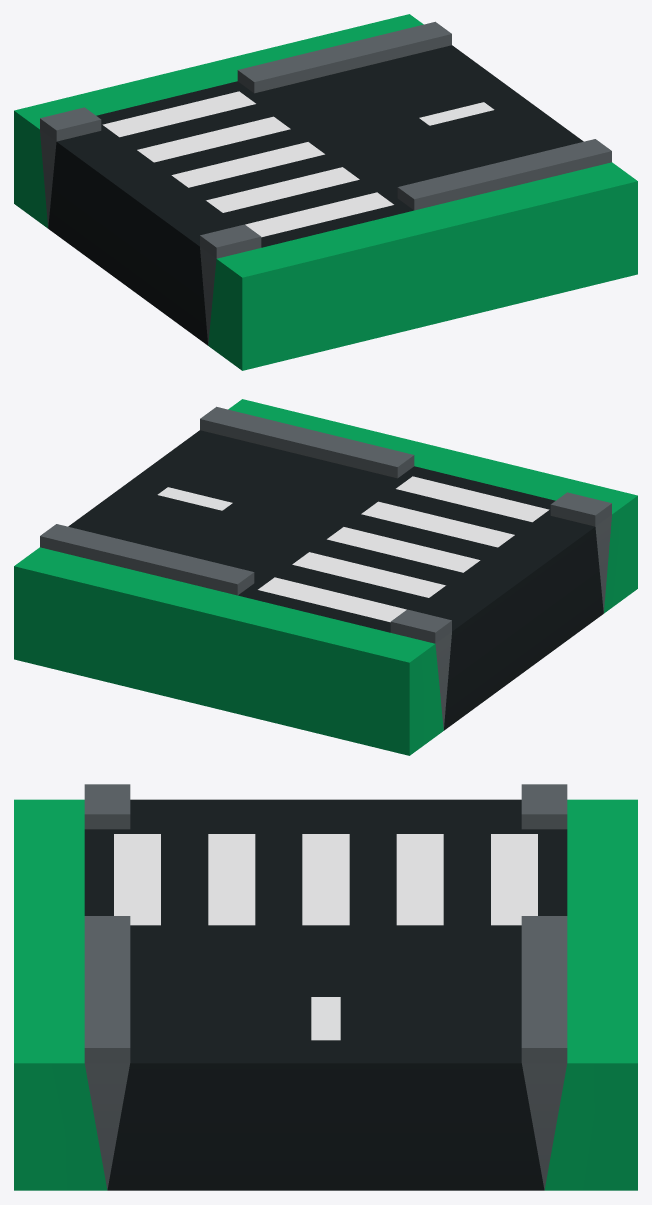
File: PASO DE PEATONES.fbx
3 views of the same model, one above another, from view 1: azimuth 30°, elevation 25°; view 2: azimuth 150°, elevation 25°; view 3: azimuth 270°, elevation 25° (orthographic). The views are drawn at different scales.
Parts seen in each view (by area): view 1: paved_road_straight__29_.005; view 2: paved_road_straight__29_.005; view 3: paved_road_straight__29_.005.
Boxes of the visible parts, bbox=[...] form: paved_road_straight__29_.005: bbox=[14, 14, 637, 370]; paved_road_straight__29_.005: bbox=[14, 399, 637, 755]; paved_road_straight__29_.005: bbox=[14, 784, 637, 1190].
Bounding box in the file's own units: 900 × 900 × 227.
1 material, 1 textured.
